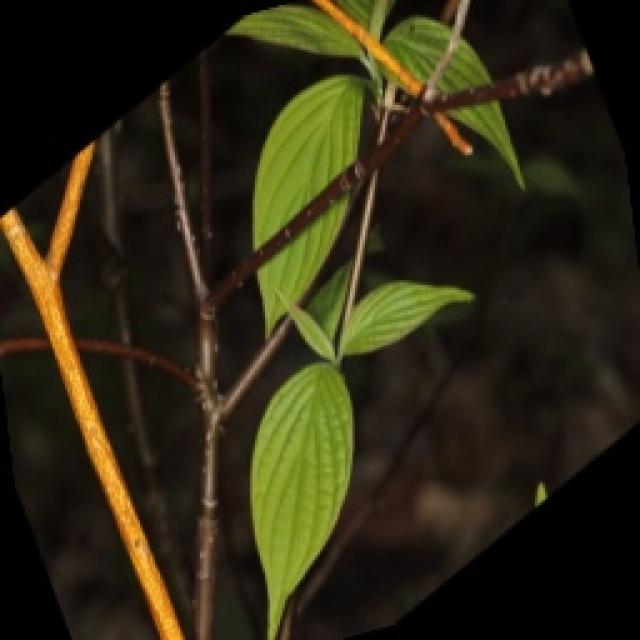Golden_canker: (1, 7, 582, 639)
